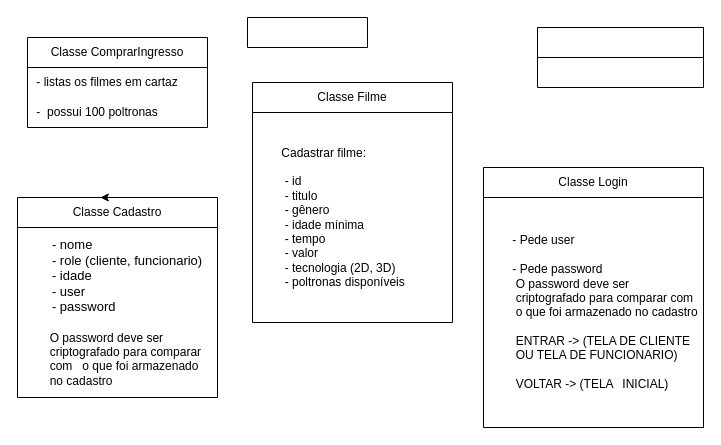
Some shapes in this 721 by 445 pixel diagram are drawn without their labels. Here are the shapes that lost their labels. From the top down, the centre of each, then its label:
At pixel 307 32: "Classe Cliente".
At pixel 620 57: "Classe Funcionario".
